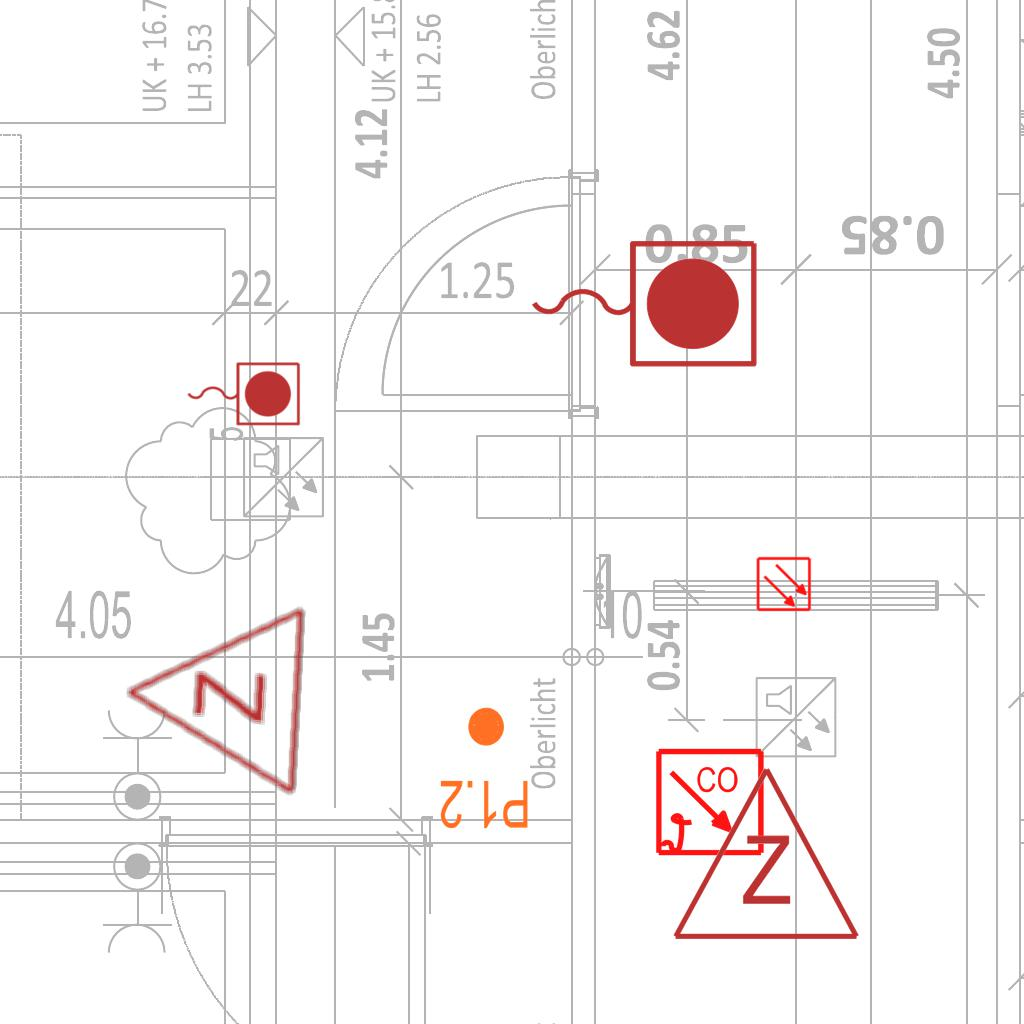Downlight_LED_Einbauleuchten_Flur: (438, 704, 531, 832)
RMO_Rauchmelder_optischer: (756, 556, 812, 612)
ROA_Rauchmelder_optisch_mit_Signalgeber_(Sockelsirene): (654, 747, 767, 860)
Zimmersignalleuchte: (109, 595, 319, 803), (666, 754, 862, 954)
Zugtaster: (521, 230, 765, 374), (182, 357, 304, 429)
